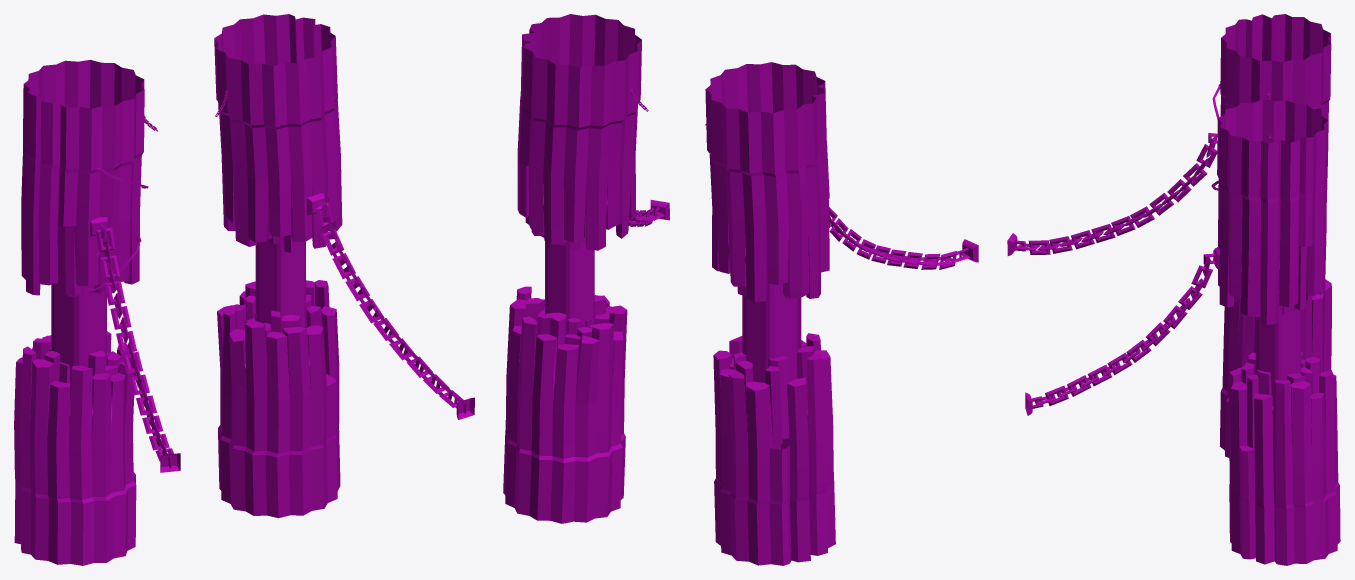
The model's file is Entrance_Mine.fbx.
3 views of the same model, side by side, from view 1: azimuth 30°, elevation 25°; view 2: azimuth 150°, elevation 25°; view 3: azimuth 270°, elevation 25° (orthographic). The views are drawn at different scales.
Visible parts, largest first — view 1: polySurface1218, polySurface1221; view 2: polySurface1218, polySurface1221; view 3: polySurface1218, polySurface1221.
Boxes of the visible parts, box(x1,y1,x2,y2) form: polySurface1218: box(14, 14, 342, 565); polySurface1221: box(87, 89, 474, 472); polySurface1218: box(503, 14, 835, 565); polySurface1221: box(628, 89, 978, 269); polySurface1218: box(1217, 14, 1340, 565); polySurface1221: box(1007, 84, 1272, 415).
Size of the model in its own units: 46.64 by 63.88 by 45.85.
